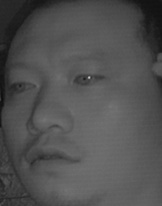eye: (71, 67, 107, 89), (8, 76, 38, 96)
mouth: (21, 139, 79, 174)
